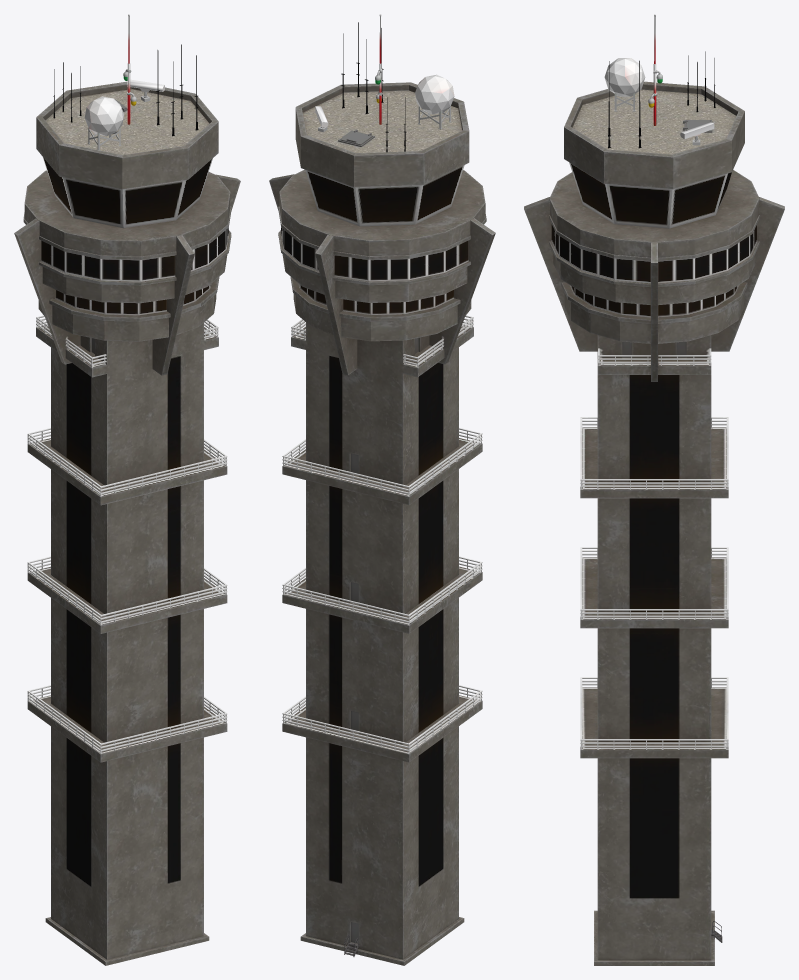
The model's file is control_tower.glb.
The picture shows the model from 3 angles, left to right: view 1: azimuth 30°, elevation 25°; view 2: azimuth 150°, elevation 25°; view 3: azimuth 270°, elevation 25°; orthographic projection.
Parts seen in each view (by area): view 1: control_tower; view 2: control_tower; view 3: control_tower.
Boxes of the visible parts, x1,y1,x2,y2 form: control_tower: [14, 14, 240, 965]; control_tower: [269, 14, 495, 965]; control_tower: [524, 14, 784, 965].
Size of the model in its own units: 23 by 90.17 by 23.
1 material, 1 textured.
